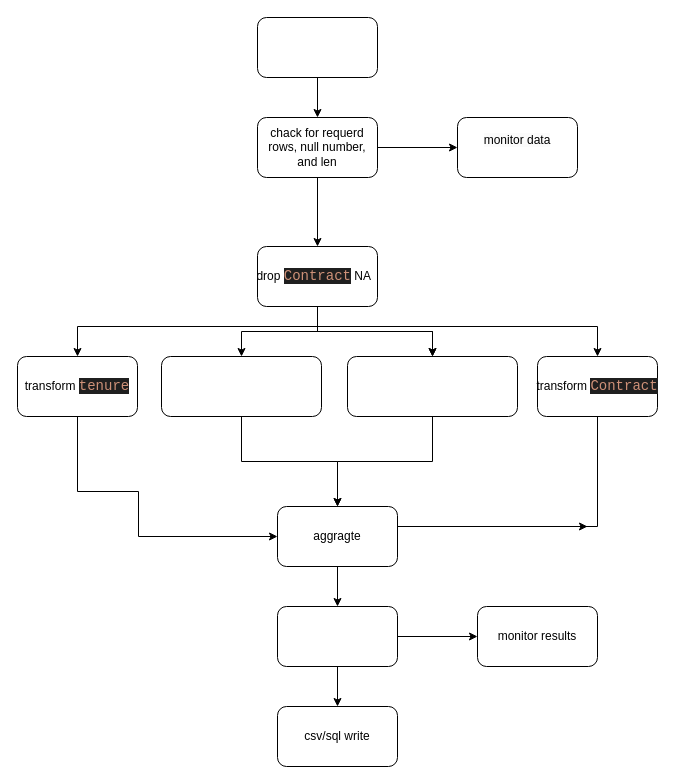
Some shapes in this 675 by 784 pixel diagram are drawn without their labels. Each missing label, with the centre of its shape:
load: point (317, 47)
predict: point (337, 636)
transfoem TotalCharges: point (432, 386)
transform PhoneService: point (241, 386)
